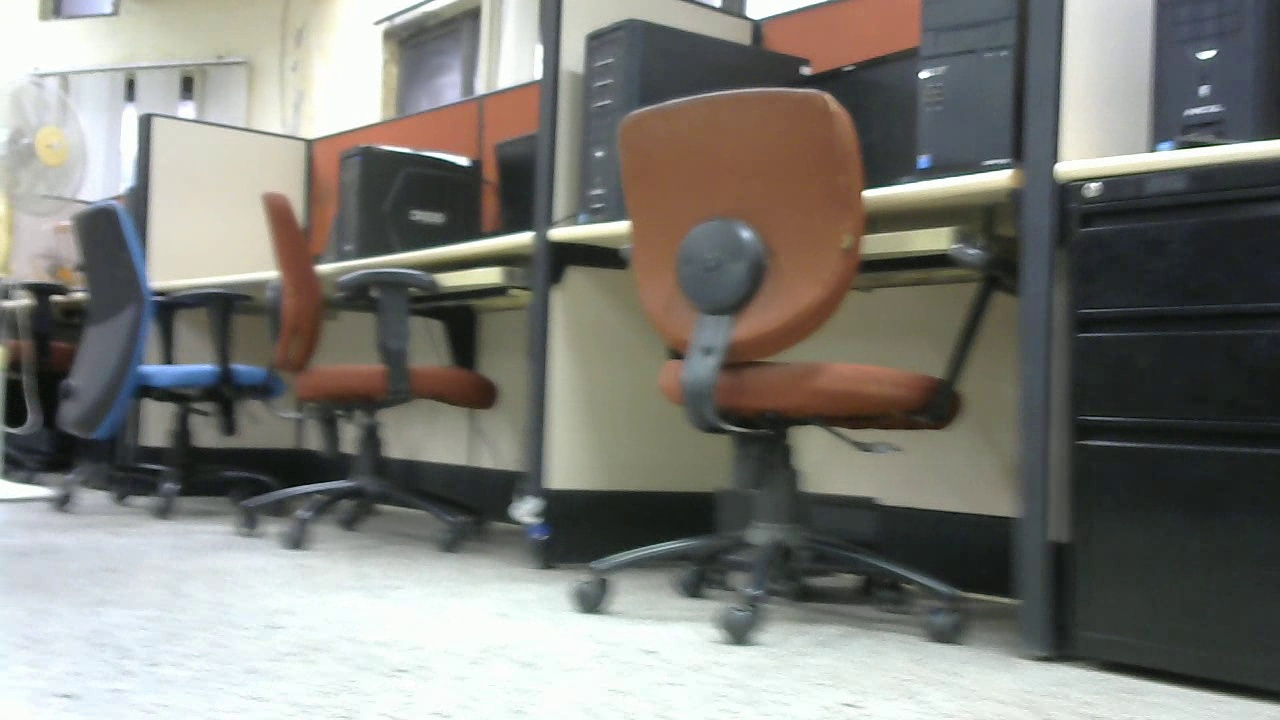chair: (567, 86, 1029, 653), (236, 191, 500, 565), (53, 198, 281, 521)
